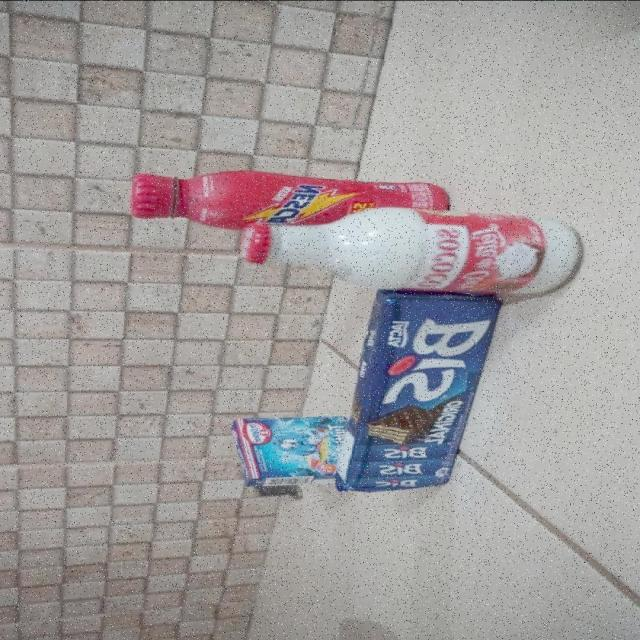ChocolateMilk: (126, 172, 448, 206)
CoconutMilk: (242, 210, 576, 294)
Gelatine: (227, 411, 332, 488)
